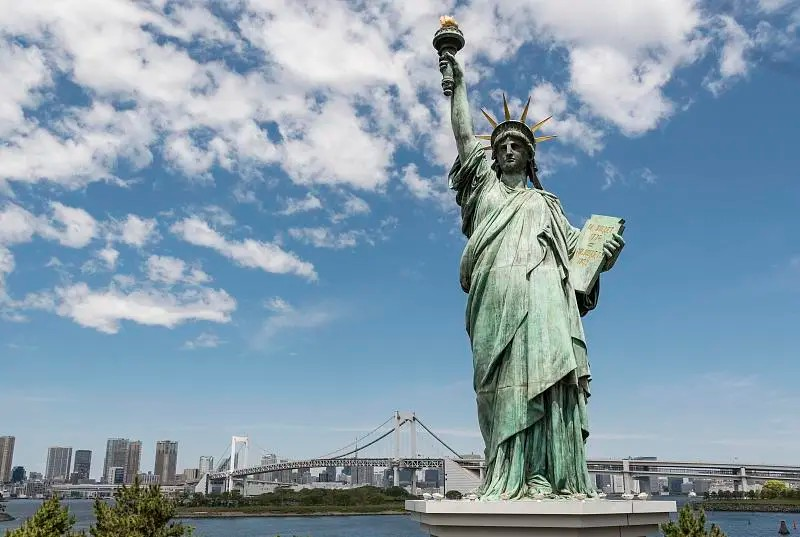SL: (404, 15, 678, 537)
